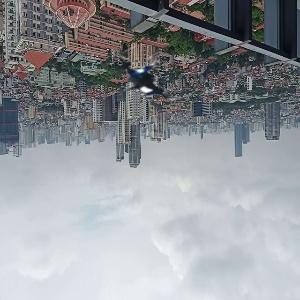drone: (114, 43, 186, 115)
